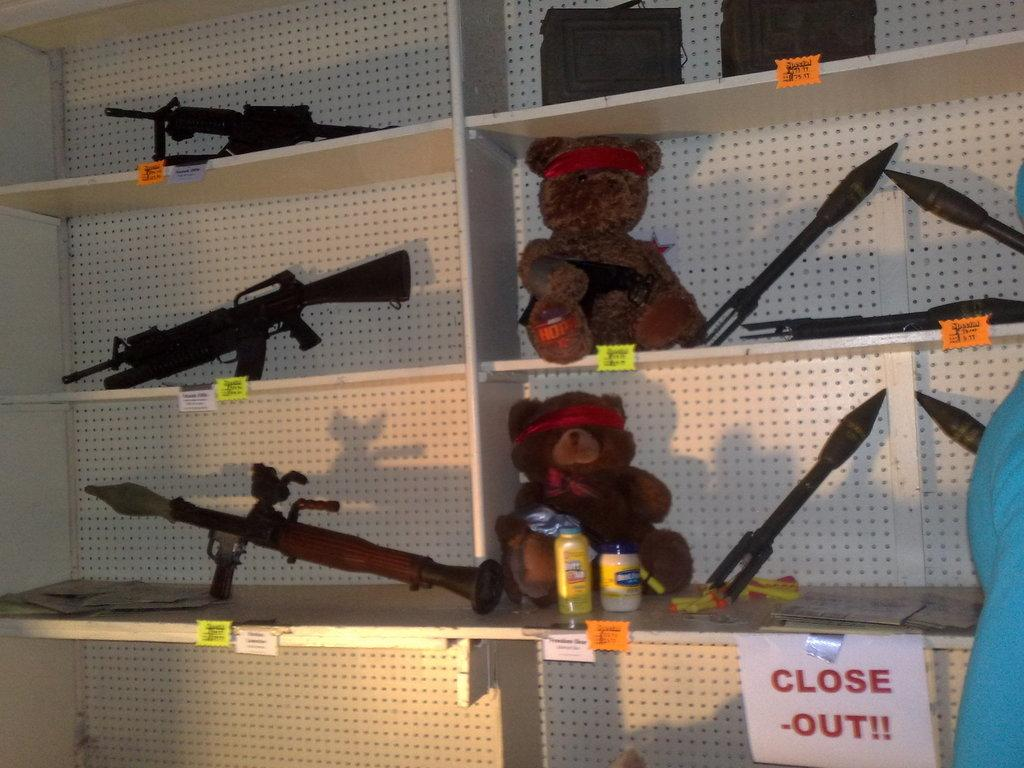Shotgun: (122, 475, 505, 623), (60, 246, 412, 394), (103, 94, 401, 166)
